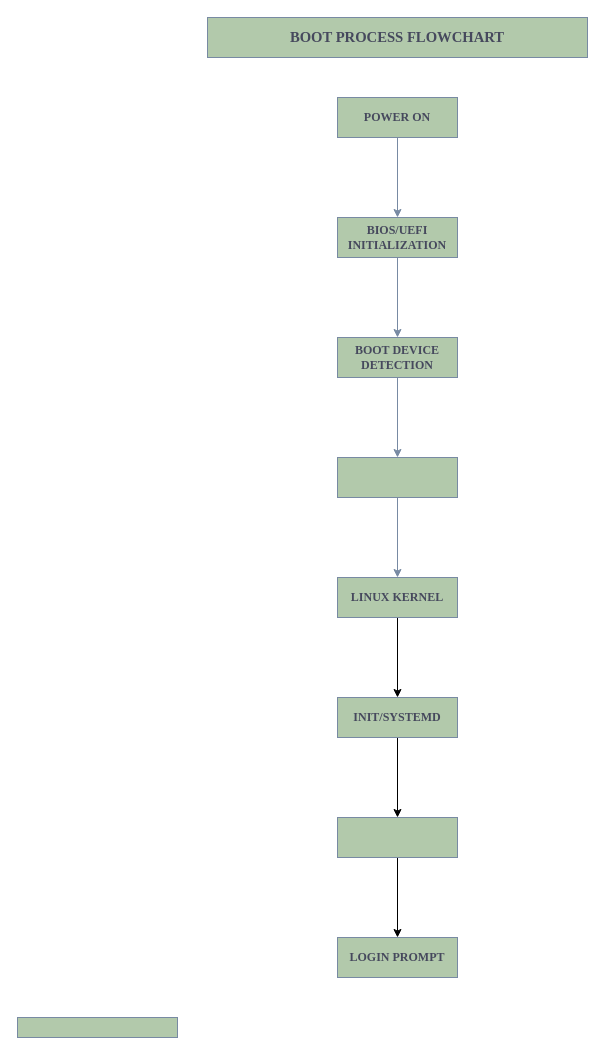
Image size: 605x1055. Some labels were removed from this diagram. The shapes that lost their labels are listed below. From the top down, each one's centre as x and y in pixels, then its label:
(397,477): BOOT LOADER
(397,837): SERVICES START
(97,1027): PARADO, CZEANNE P.
